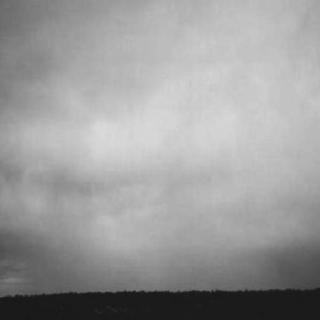Nimbostratus: (0, 0, 320, 286)
